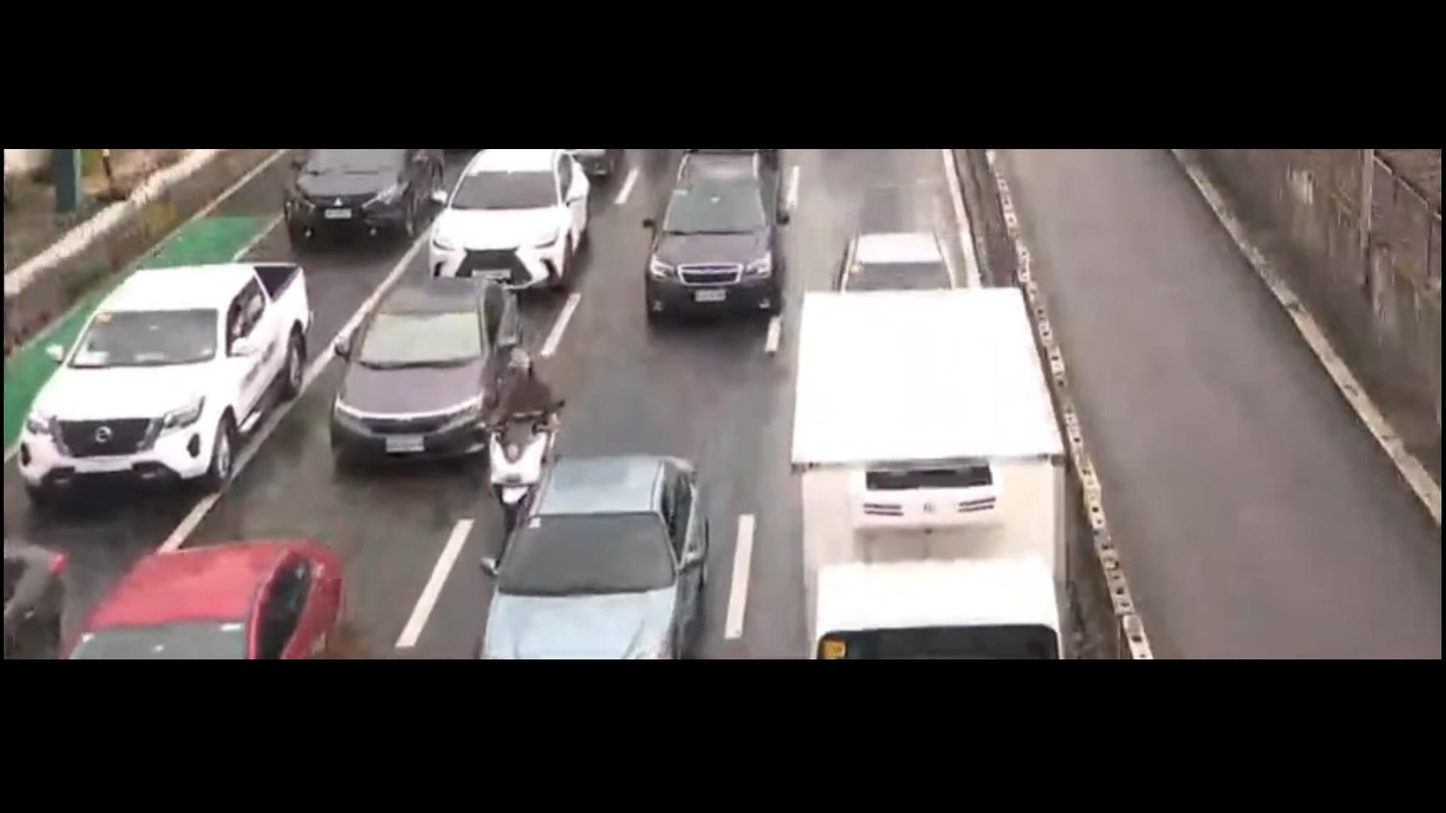Motorcycle: (478, 349, 577, 541)
Pickup: (0, 247, 337, 526)
SUV: (619, 130, 848, 339), (408, 149, 609, 286), (281, 148, 450, 224)
Sedan: (462, 446, 733, 661), (316, 277, 531, 470), (54, 540, 362, 664), (837, 219, 978, 288)
Truck: (769, 266, 1112, 658)
